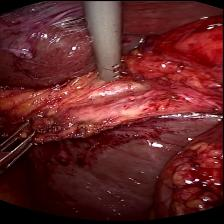Grasper: (0, 116, 45, 166)
Irrigator: (90, 50, 129, 84)
